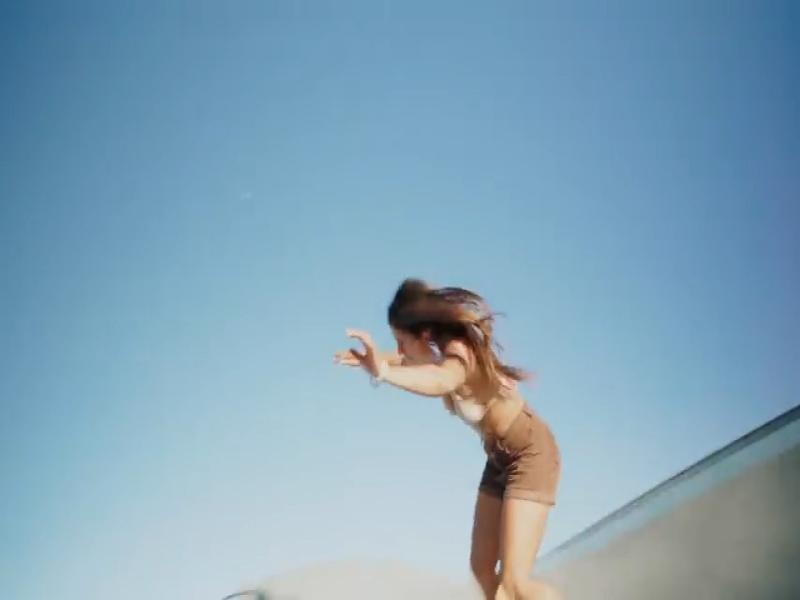person: (336, 279, 561, 598)
